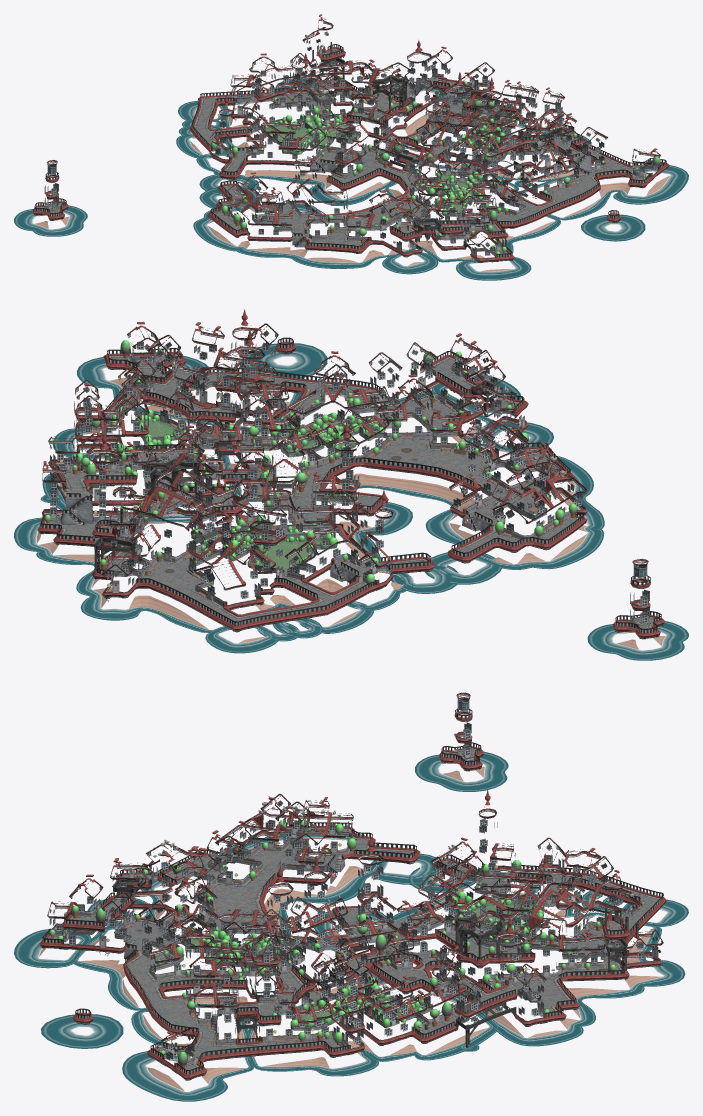
The model's file is TownsV2.fbx.
The picture shows the model from 3 angles, top to bottom: view 1: azimuth 30°, elevation 25°; view 2: azimuth 150°, elevation 25°; view 3: azimuth 270°, elevation 25°; orthographic projection. The views are drawn at different scales.
Visible parts, largest first — view 1: TownsV2; view 2: TownsV2; view 3: TownsV2.
Boxes of the visible parts, left/top/right/bottom form: TownsV2: left=14, top=14, right=688, bottom=280; TownsV2: left=14, top=309, right=688, bottom=660; TownsV2: left=14, top=692, right=688, bottom=1101.
Size of the model in its own units: 3748 by 682 by 3044.
Materials: 1 (1 with a texture image).
